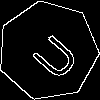U: (23, 26, 82, 84)
